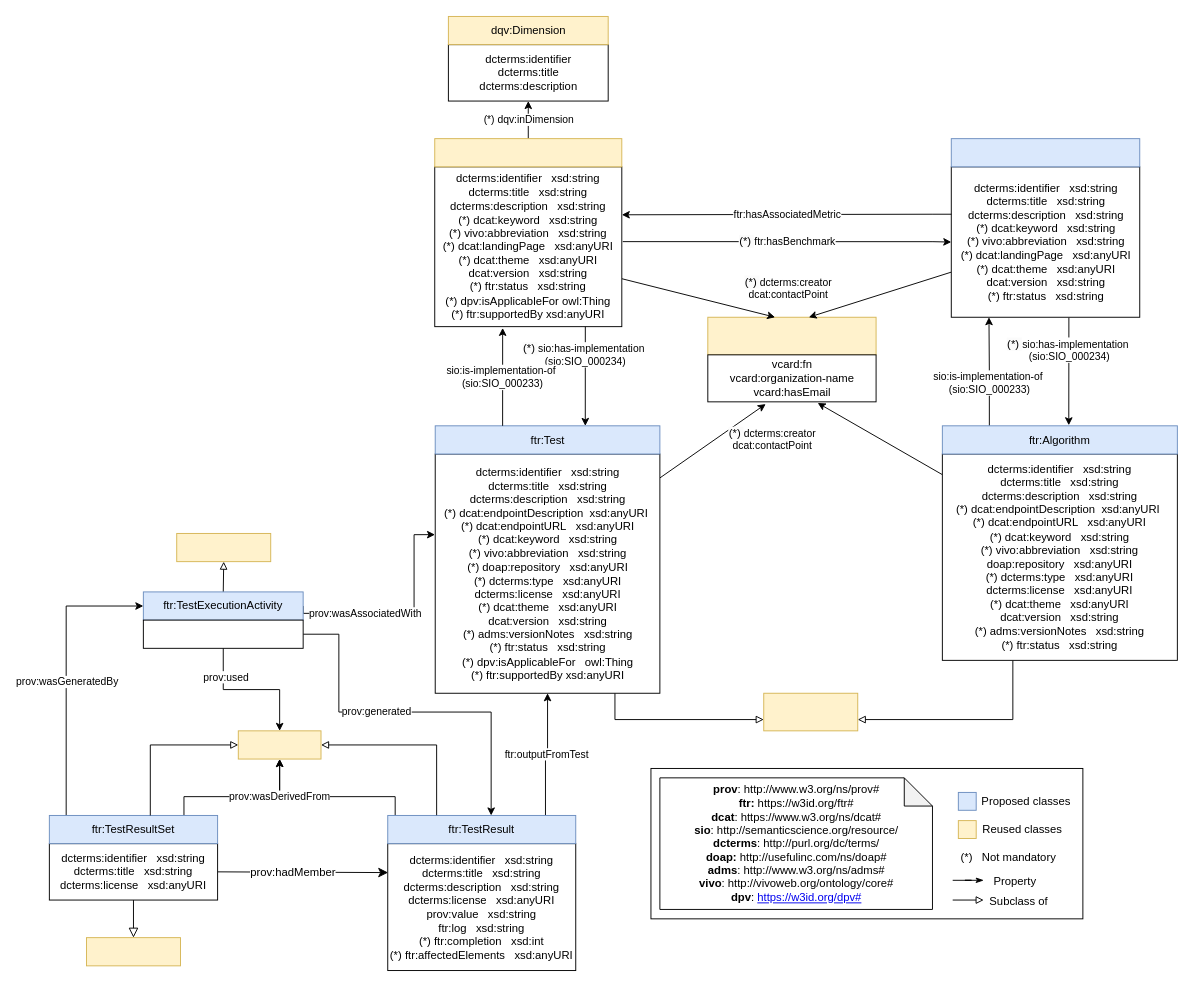
Some shapes in this 1194 by 987 pixel diagram are drawn without their labels. Each missing label, with the centre of its shape:
dcat:DataService, prov:Agent: point 810,711
dqv:Metric: point 528,152
ftr:Benchmark: point 1045,152
prov:Activity: point 223,547
prov:Collection: point 133,951
prov:Entity: point 279,744
vcard:Individual or vcard:Organization: point 791,335
